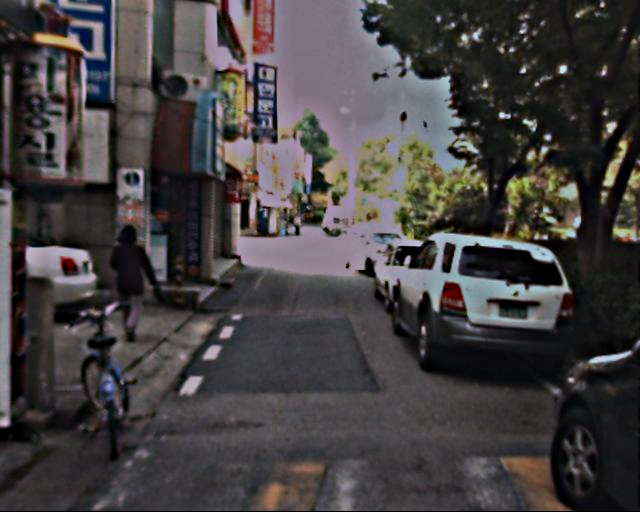person: (107, 220, 161, 343)
